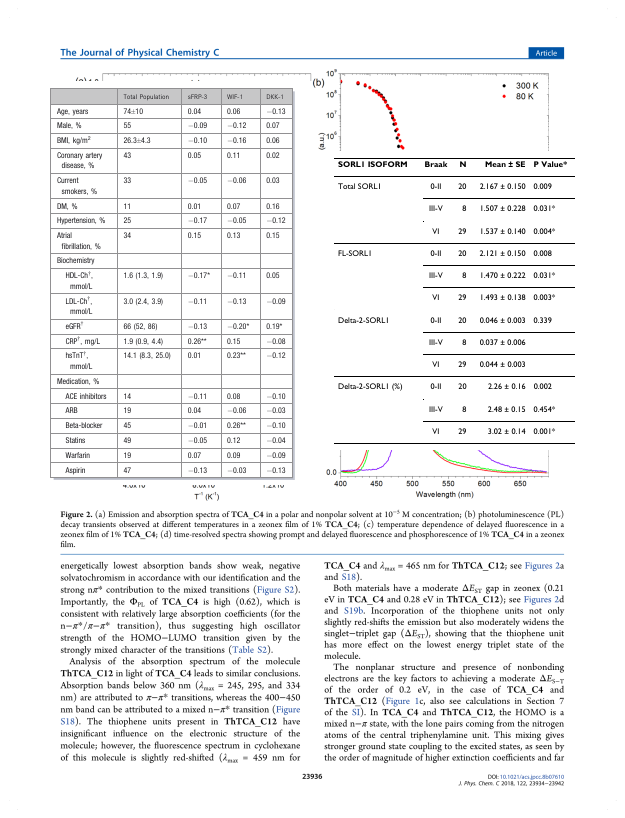bordered: (50, 86, 292, 477)
borderless: (333, 156, 575, 443)
cell: (55, 152, 103, 171), (55, 232, 101, 251), (55, 177, 98, 197), (336, 383, 403, 393), (64, 270, 93, 292), (64, 296, 93, 317), (64, 351, 93, 372), (336, 316, 390, 326), (336, 161, 408, 168), (478, 205, 526, 215), (478, 227, 526, 237), (478, 249, 526, 259), (478, 271, 526, 281), (478, 294, 526, 304), (478, 316, 526, 326), (478, 338, 526, 348), (55, 217, 106, 226), (122, 352, 171, 361), (478, 183, 526, 192), (478, 361, 526, 370), (336, 183, 382, 192), (55, 377, 100, 386), (486, 383, 526, 393), (486, 405, 526, 415), (486, 427, 526, 437), (55, 135, 91, 146), (64, 392, 107, 401), (122, 272, 164, 281), (122, 297, 164, 306), (122, 337, 164, 346), (122, 94, 169, 102), (336, 249, 373, 259), (55, 257, 95, 266), (122, 322, 158, 332), (64, 336, 100, 346), (64, 422, 103, 431), (55, 107, 89, 116), (483, 161, 526, 168), (122, 137, 151, 146), (225, 322, 250, 332), (532, 161, 567, 168), (55, 122, 82, 131), (64, 451, 91, 460), (532, 205, 556, 215), (532, 227, 556, 237), (532, 271, 556, 281), (532, 294, 556, 304), (532, 405, 556, 415), (532, 427, 556, 437), (64, 321, 84, 332), (186, 322, 208, 332), (64, 436, 86, 446), (186, 436, 208, 446), (186, 272, 210, 281), (265, 436, 286, 446), (55, 202, 78, 211), (532, 249, 552, 259), (532, 316, 552, 326), (532, 383, 552, 393), (122, 107, 144, 116), (186, 122, 208, 131), (225, 122, 247, 131), (186, 137, 208, 146), (225, 137, 247, 146), (186, 177, 208, 186), (225, 177, 247, 186), (186, 217, 208, 226), (225, 217, 247, 226), (225, 272, 247, 281), (186, 297, 208, 306), (225, 297, 247, 306), (186, 392, 208, 401), (225, 407, 247, 416), (186, 422, 208, 431), (64, 466, 86, 475), (186, 466, 208, 475), (225, 466, 247, 475), (265, 107, 286, 116), (265, 217, 286, 226), (265, 297, 286, 306), (186, 337, 207, 346), (265, 337, 286, 346), (225, 352, 246, 361), (265, 352, 286, 361), (265, 392, 286, 401), (265, 407, 286, 416), (225, 422, 246, 431), (265, 422, 286, 431), (265, 451, 286, 460), (265, 466, 286, 475), (532, 183, 552, 192), (265, 322, 283, 332), (186, 94, 208, 102), (423, 161, 448, 168), (427, 205, 443, 215), (427, 271, 443, 281), (427, 338, 443, 348), (427, 405, 443, 415), (225, 436, 241, 446), (265, 94, 284, 102), (225, 94, 243, 102), (186, 107, 202, 116), (225, 107, 241, 116), (186, 152, 202, 161), (225, 152, 241, 161), (186, 202, 202, 211), (225, 202, 241, 211), (186, 232, 202, 241), (225, 232, 241, 241), (225, 337, 241, 346), (186, 352, 202, 361), (225, 392, 241, 401), (186, 407, 202, 416), (186, 451, 202, 460), (225, 451, 241, 460), (265, 122, 280, 131), (265, 137, 280, 146), (265, 152, 280, 161), (265, 177, 280, 186), (265, 202, 280, 211), (265, 232, 280, 241), (265, 272, 280, 281), (429, 249, 442, 259), (429, 316, 442, 326), (429, 383, 442, 393), (64, 407, 78, 416), (429, 183, 442, 192), (457, 227, 467, 237), (457, 249, 467, 259), (457, 294, 467, 304), (457, 316, 467, 326), (457, 383, 467, 393), (457, 427, 467, 437), (122, 436, 132, 446), (457, 183, 467, 192), (431, 227, 440, 237), (431, 294, 440, 304), (457, 361, 467, 370), (431, 427, 440, 437), (122, 122, 132, 131), (122, 152, 132, 161), (122, 177, 132, 186), (122, 202, 132, 211), (122, 217, 132, 226), (122, 232, 132, 241), (122, 392, 132, 401), (122, 407, 132, 416), (122, 422, 132, 431), (122, 451, 132, 460), (122, 466, 132, 475), (431, 361, 440, 370), (458, 161, 467, 168), (461, 205, 467, 215), (461, 271, 467, 281), (461, 338, 467, 348), (461, 405, 467, 415)
